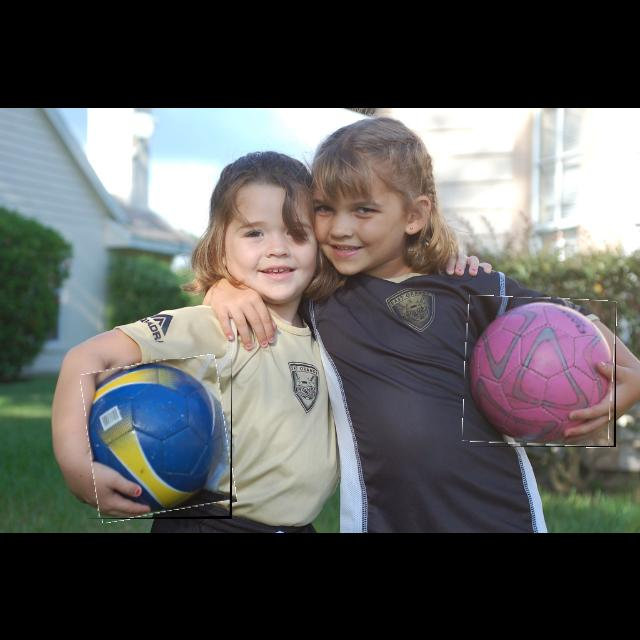Football: (86, 359, 232, 519), (464, 297, 616, 447)
